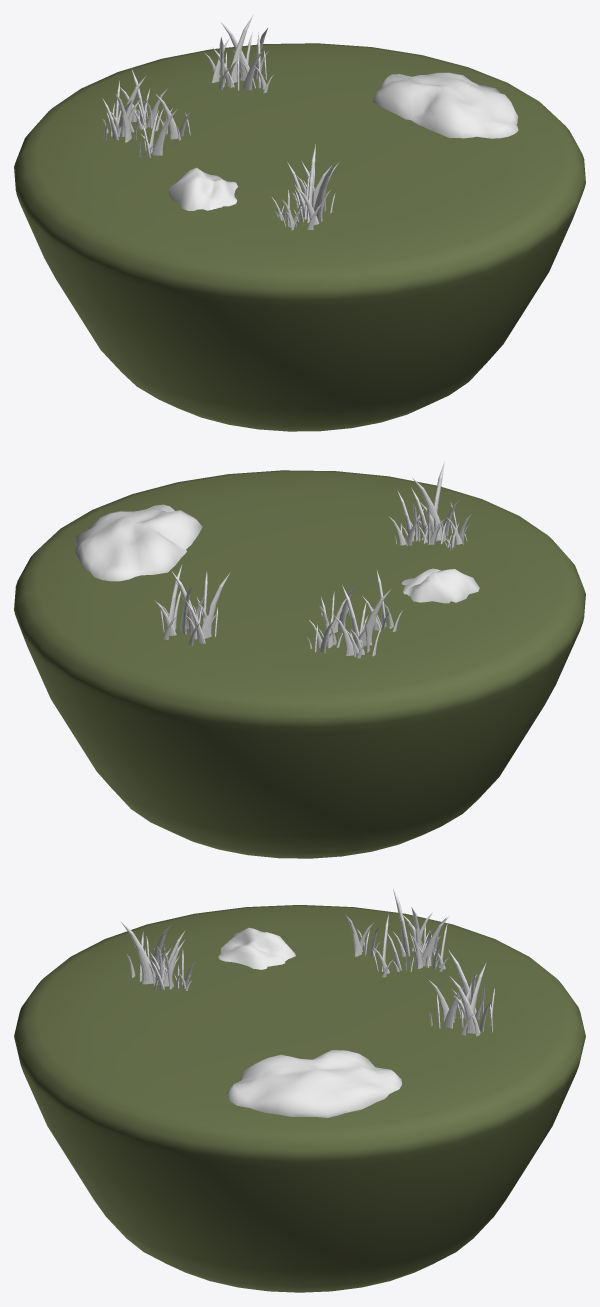
The picture shows the model from 3 angles, top to bottom: view 1: azimuth 30°, elevation 25°; view 2: azimuth 150°, elevation 25°; view 3: azimuth 270°, elevation 25°; orthographic projection.
Visible parts, largest first — view 1: Circle, Sphere, Sphere.001, Cone.009, Cone.015, Cone.008; view 2: Circle, Sphere, Sphere.001, Cone.014, Cone.009, Cone; view 3: Circle, Sphere, Sphere.001, Cone, Cone.008.
Part boxes in pixels (left/top/right/bottom): Circle: left=14, top=43, right=585, bottom=431; Sphere: left=373, top=72, right=518, bottom=138; Sphere.001: left=168, top=167, right=237, bottom=210; Cone.009: left=295, top=144, right=322, bottom=229; Cone.015: left=212, top=15, right=253, bottom=89; Cone.008: left=291, top=166, right=334, bottom=221; Circle: left=14, top=470, right=585, bottom=858; Sphere: left=75, top=504, right=202, bottom=581; Sphere.001: left=401, top=568, right=479, bottom=603; Cone.014: left=186, top=572, right=230, bottom=645; Cone.009: left=412, top=477, right=460, bottom=541; Cone: left=154, top=564, right=182, bottom=639; Circle: left=14, top=905, right=585, bottom=1292; Sphere: left=227, top=1050, right=401, bottom=1117; Sphere.001: left=218, top=927, right=295, bottom=969; Cone: left=449, top=975, right=492, bottom=1036; Cone.008: left=120, top=921, right=169, bottom=985.
Size of the model in its own units: 1347 by 747 by 1347.
